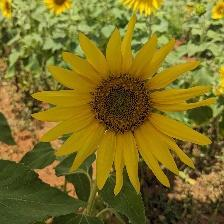sunflower: (30, 14, 215, 197)
